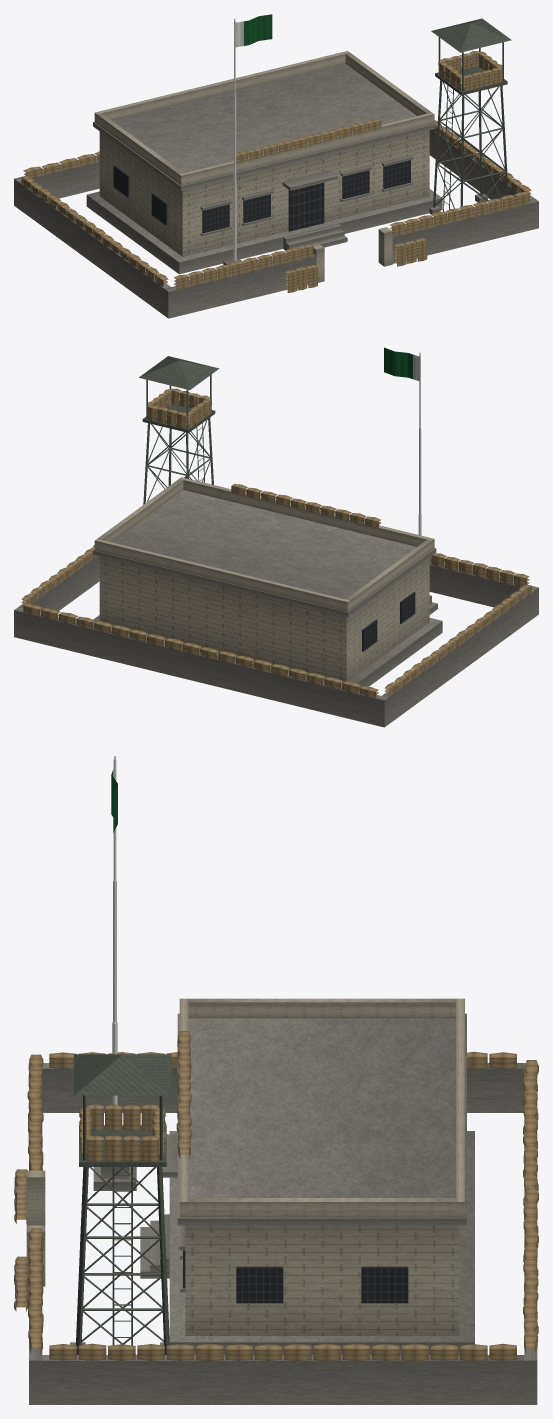
Rendered from pakistan_rangers_border_outpost.glb.
The picture shows the model from 3 angles, top to bottom: view 1: azimuth 30°, elevation 25°; view 2: azimuth 150°, elevation 25°; view 3: azimuth 270°, elevation 25°; orthographic projection. The views are drawn at different scales.
Visible parts, largest first — view 1: Outpost_Building_12x7m, Sandbagged_Perimeter_Wall, Steel_Watchtower_9m, Flagpole_12m; view 2: Outpost_Building_12x7m, Sandbagged_Perimeter_Wall, Steel_Watchtower_9m, Flagpole_12m; view 3: Outpost_Building_12x7m, Sandbagged_Perimeter_Wall, Steel_Watchtower_9m, Flagpole_12m.
Part boxes in pixels (<box>): Outpost_Building_12x7m: <box>86,51,442,274</box>; Sandbagged_Perimeter_Wall: <box>14,120,538,318</box>; Steel_Watchtower_9m: <box>429,18,511,216</box>; Flagpole_12m: <box>217,14,272,272</box>; Outpost_Building_12x7m: <box>93,477,442,687</box>; Sandbagged_Perimeter_Wall: <box>14,545,538,727</box>; Steel_Watchtower_9m: <box>139,356,219,504</box>; Flagpole_12m: <box>384,347,437,614</box>; Outpost_Building_12x7m: <box>140,998,474,1354</box>; Sandbagged_Perimeter_Wall: <box>14,1051,538,1404</box>; Steel_Watchtower_9m: <box>70,1054,171,1354</box>; Flagpole_12m: <box>93,756,136,1190</box>.
Bounding box in the file's own units: 18.07 × 12 × 13.42.
1 material, 1 textured.
